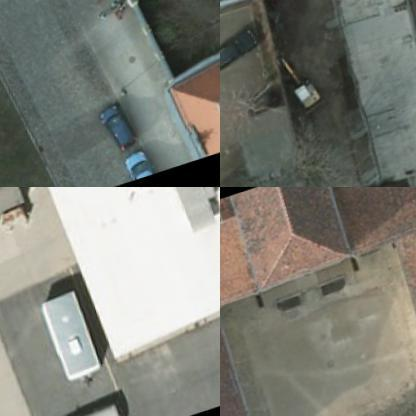camping car: (40, 288, 102, 384)
car: (220, 26, 261, 75), (99, 102, 131, 150), (45, 401, 125, 415)
